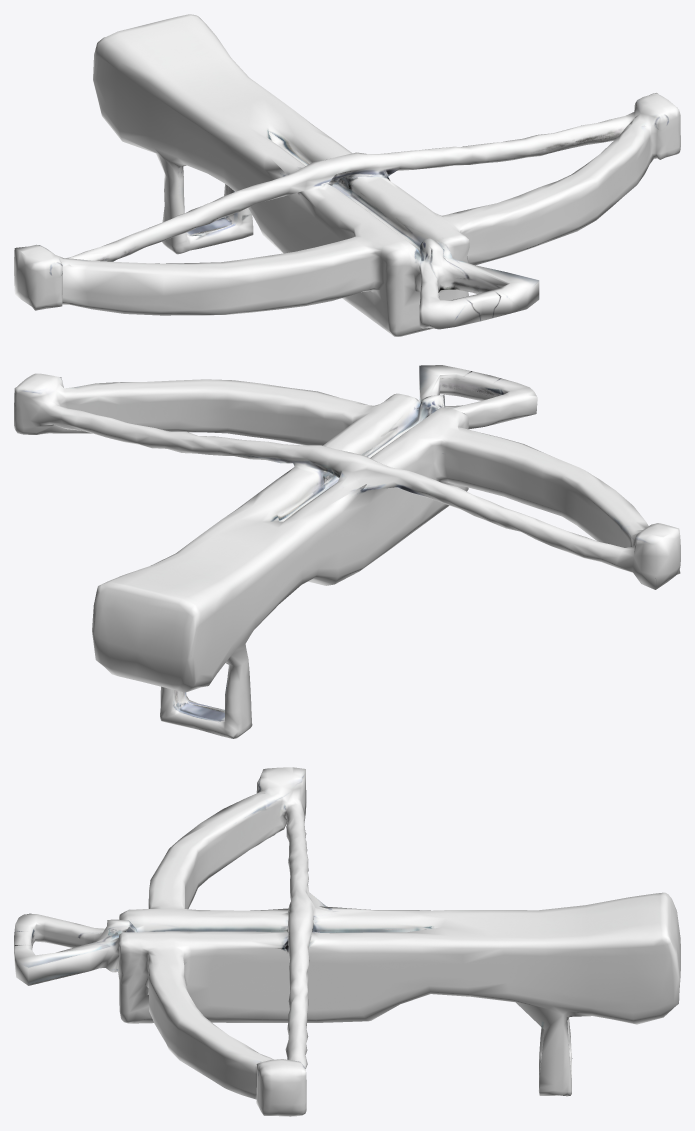
Rendered from crossbow-steel.glb.
3 renders of one model, top to bottom at view 1: azimuth 30°, elevation 25°; view 2: azimuth 150°, elevation 25°; view 3: azimuth 270°, elevation 25°, orthographic. The views are drawn at different scales.
Bounding box in the file's own units: 2 × 0.5168 × 1.83.
Materials: 1 (1 with a texture image).
